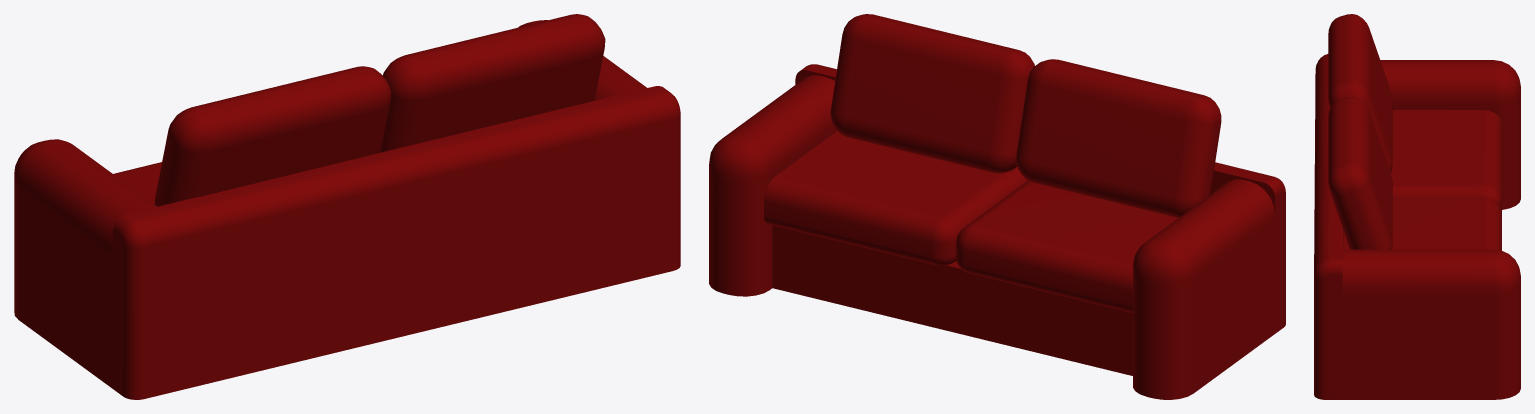
The model's file is Canape2_10.fbx.
3 renders of one model, left to right at view 1: azimuth 30°, elevation 25°; view 2: azimuth 150°, elevation 25°; view 3: azimuth 270°, elevation 25°, orthographic. The views are drawn at different scales.
Visible parts, largest first — view 1: pCube1068, pCube2538, pCube2535, pCube2534, pCube2533, pCube2523; view 2: pCube2538, pCube2535, pCube2534, pCube2539, pCube2522, pCube2523, pCube2533, pCube1068; view 3: pCube2533, pCube2523, pCube2538, pCube2534, pCube1068, pCube2522, pCube2535.
Boxes of the visible parts, x1,y1,x2,y2 form: pCube1068: (113, 86, 680, 399); pCube2538: (14, 139, 157, 388); pCube2535: (154, 66, 391, 206); pCube2534: (380, 14, 605, 152); pCube2533: (518, 20, 646, 100); pCube2523: (113, 162, 161, 203); pCube2538: (1133, 179, 1274, 399); pCube2535: (1016, 59, 1221, 217); pCube2534: (830, 14, 1034, 173); pCube2539: (772, 225, 1132, 375); pCube2522: (764, 131, 1027, 265); pCube2523: (956, 180, 1178, 313); pCube2533: (709, 75, 836, 296); pCube1068: (795, 64, 1285, 333); pCube2533: (1342, 249, 1520, 399); pCube2523: (1390, 110, 1501, 213); pCube2538: (1380, 60, 1520, 209); pCube2534: (1328, 96, 1392, 249); pCube1068: (1314, 54, 1343, 399); pCube2522: (1343, 198, 1501, 250); pCube2535: (1328, 14, 1392, 172).
Bounding box in the file's own units: 167 × 73.88 × 68.22.
